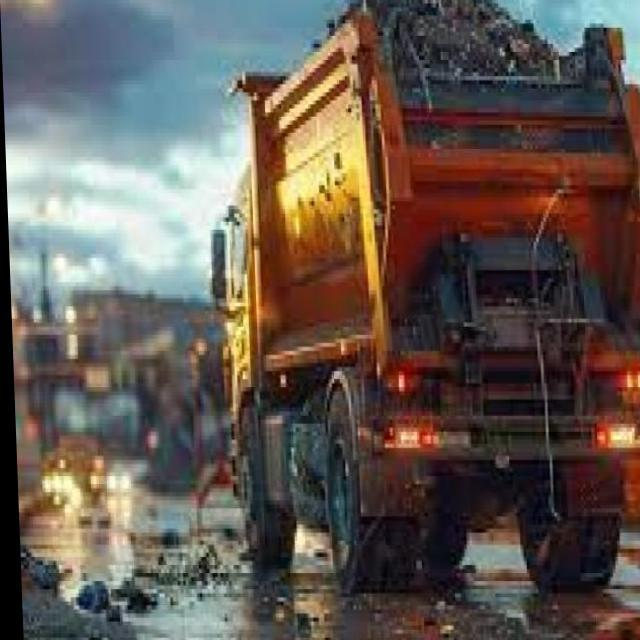uncovered: (211, 0, 640, 593)
